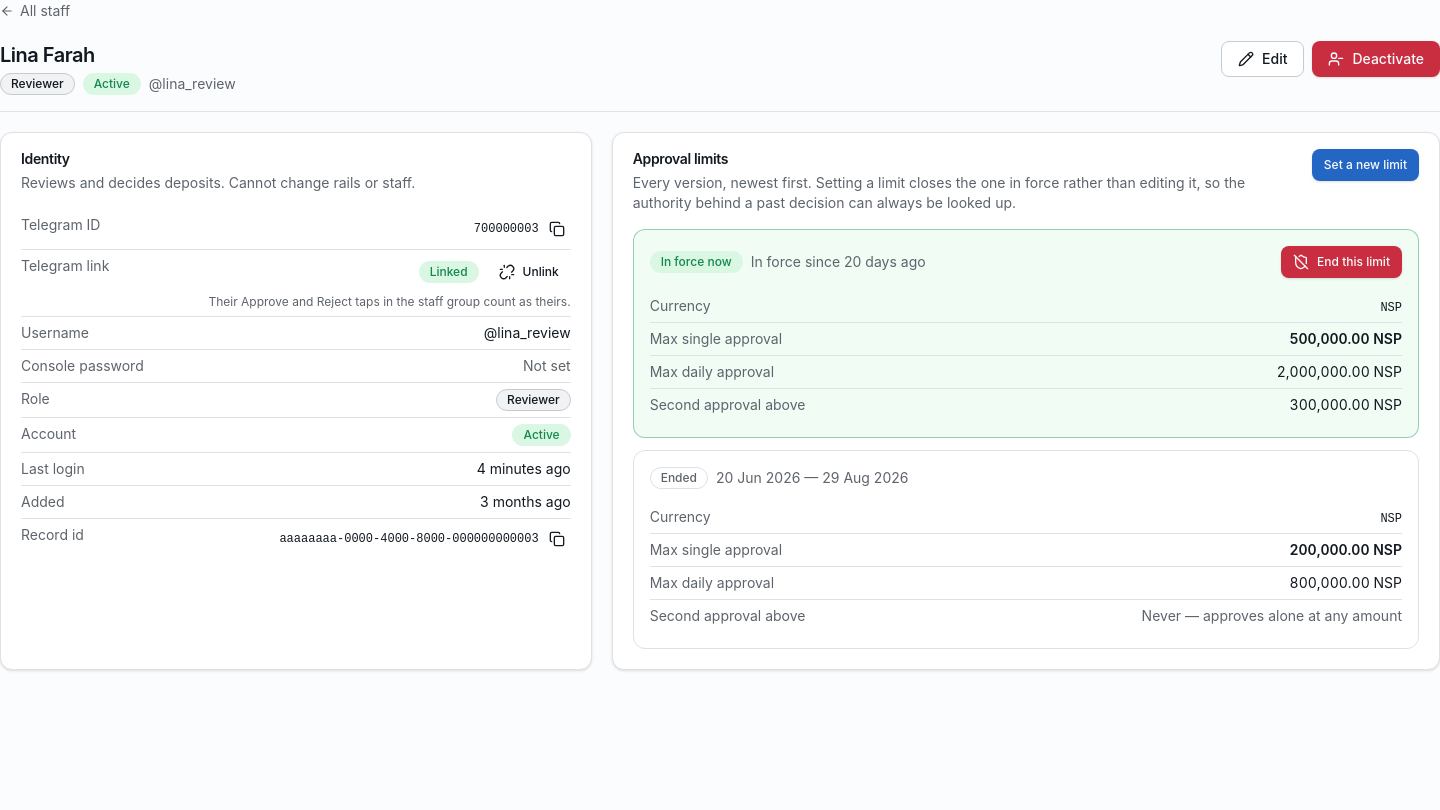
Test case: StaffDetailPage › opens the new-limit form already warning what it will do
Click the button "Set a new limit": (1365, 165) [1312, 149, 1419, 181]
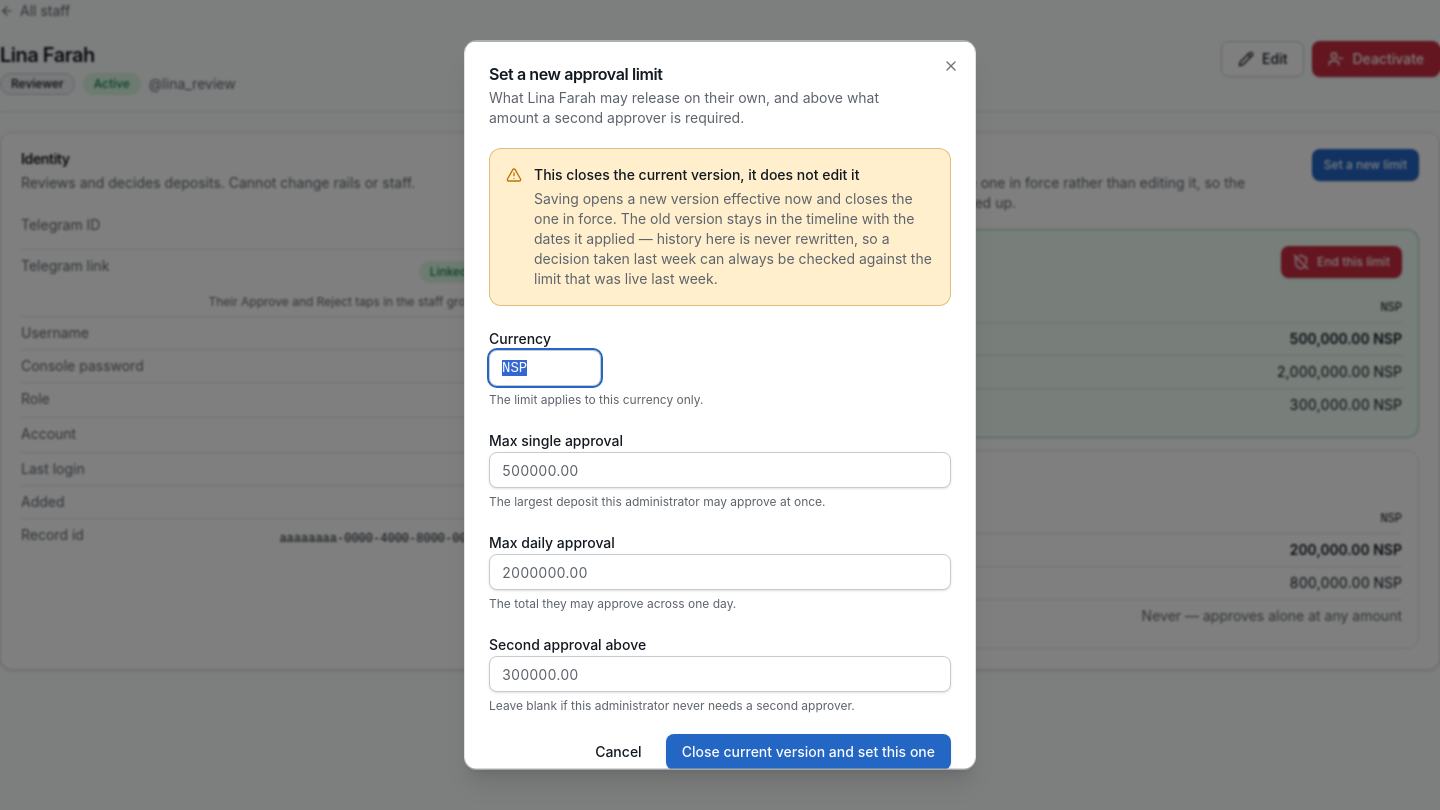
Check: the text "This closes the current version, it does not edit it" is shown, box [534, 166, 859, 182]
Check: the field labelled "Currency" holds "NSP", box [489, 350, 601, 386]
